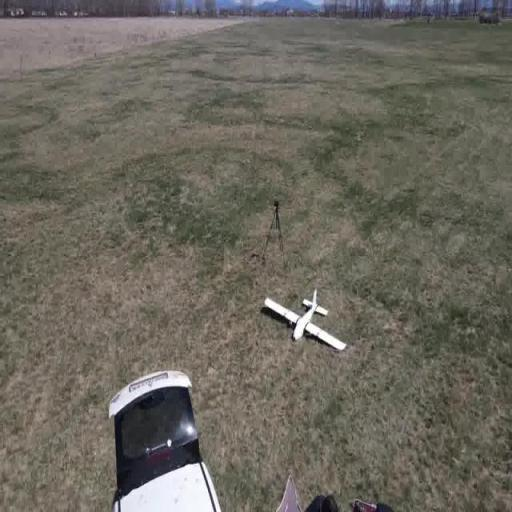uav: (261, 288, 350, 362)
